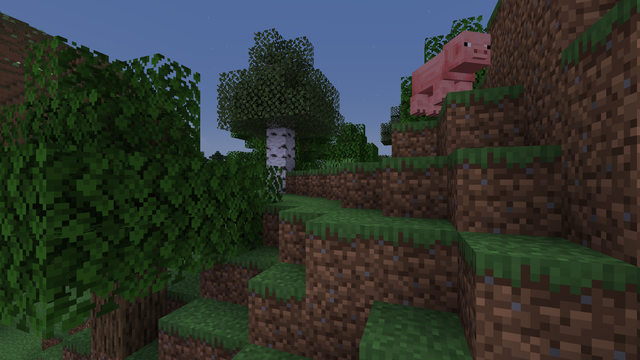cochons: (416, 47, 472, 115)
